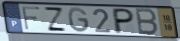2: (92, 8, 113, 34)
B: (135, 7, 160, 37)
F: (20, 5, 42, 32)
G: (66, 6, 91, 34)
P: (113, 7, 136, 35)
Z: (42, 6, 68, 33)
